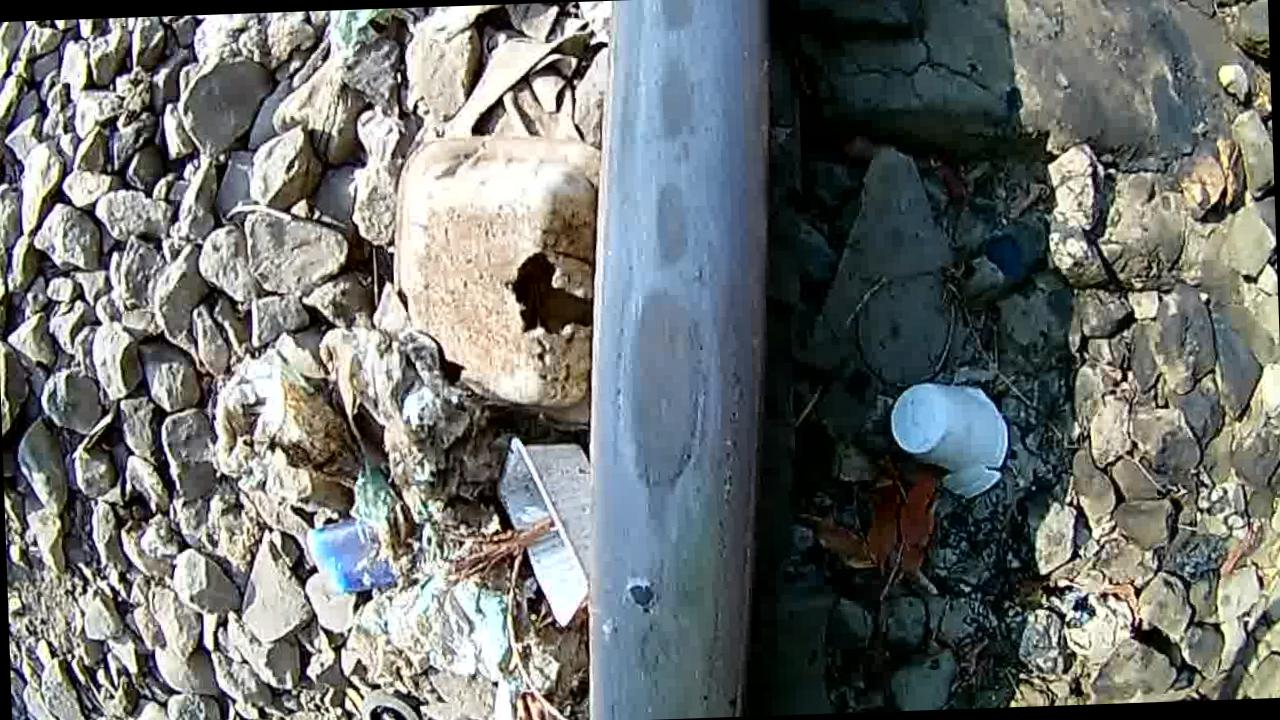bolt_missing: (577, 0, 790, 720)
